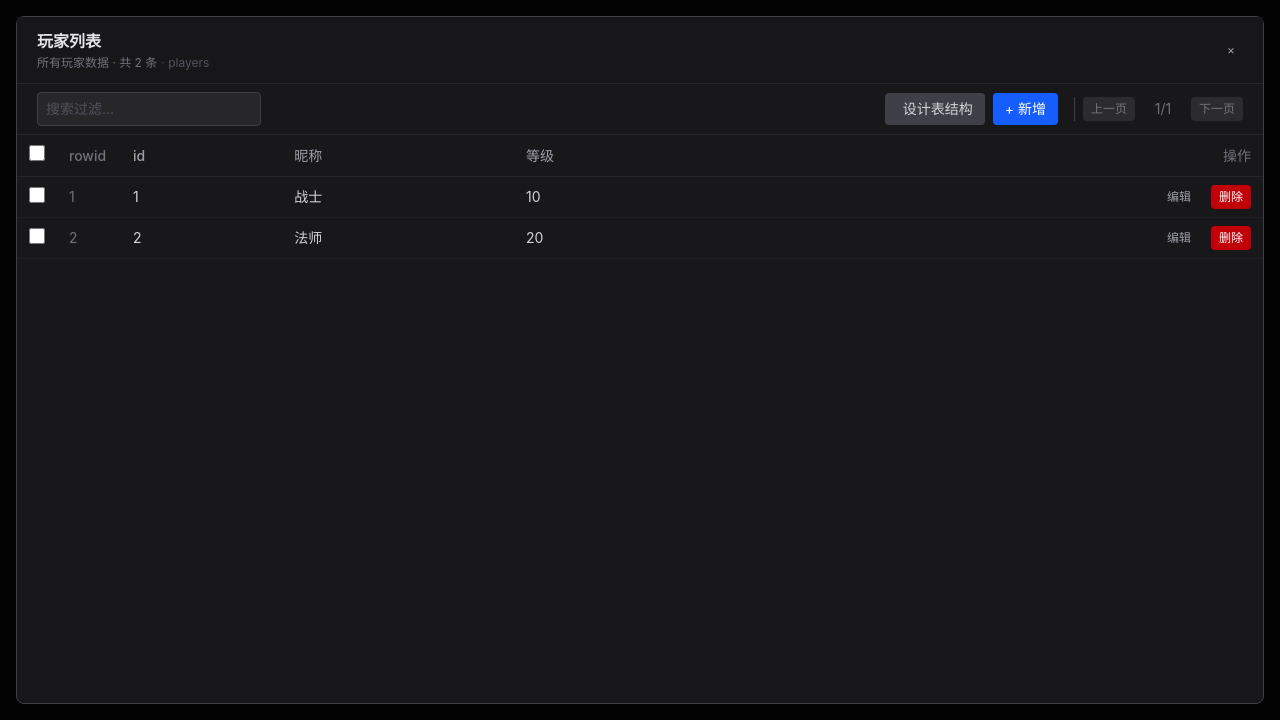
Test: TableEditorPopup - 批量删除 › 点击"删除选中"打开批量删除确认弹窗
Check: the text "战士" is shown, box [294,188,322,205]
Step 1. Click the checkbox named "选择 rowid 1 行" → (37, 194), box [29,186,45,202]
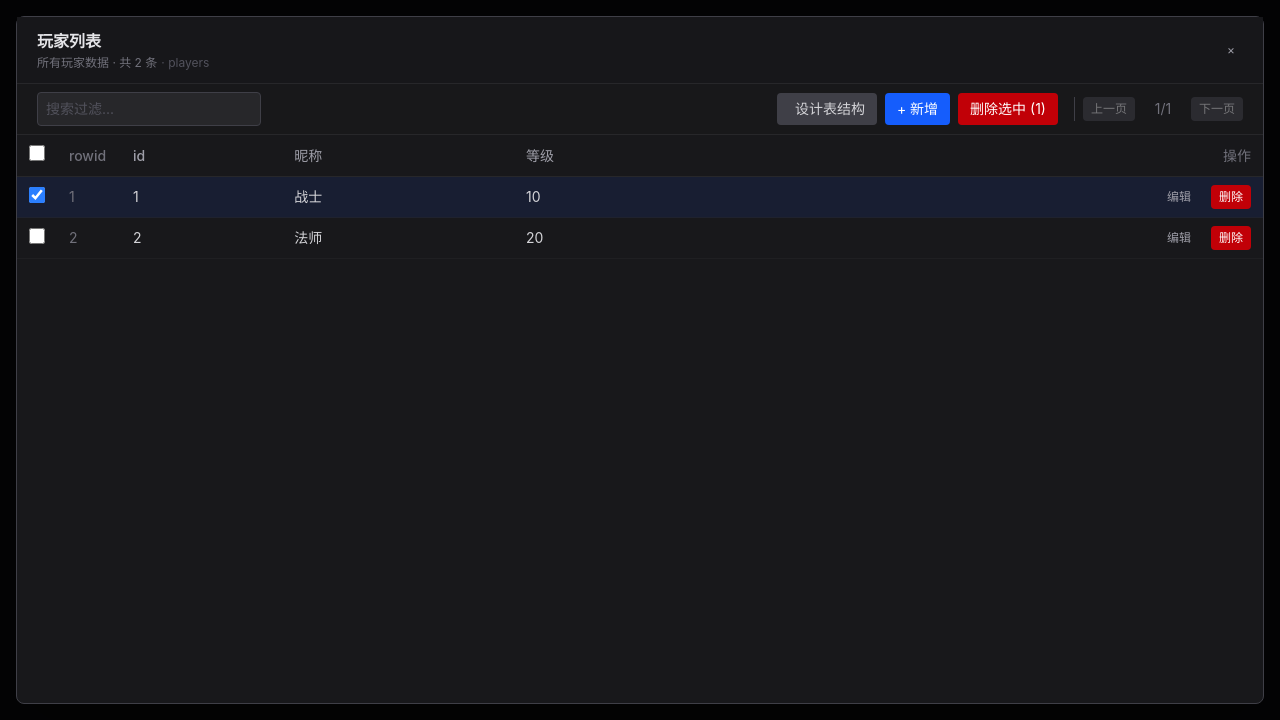
Step 2. Click the button "删除选中 (1)" → (1008, 109), box [958,93,1058,125]
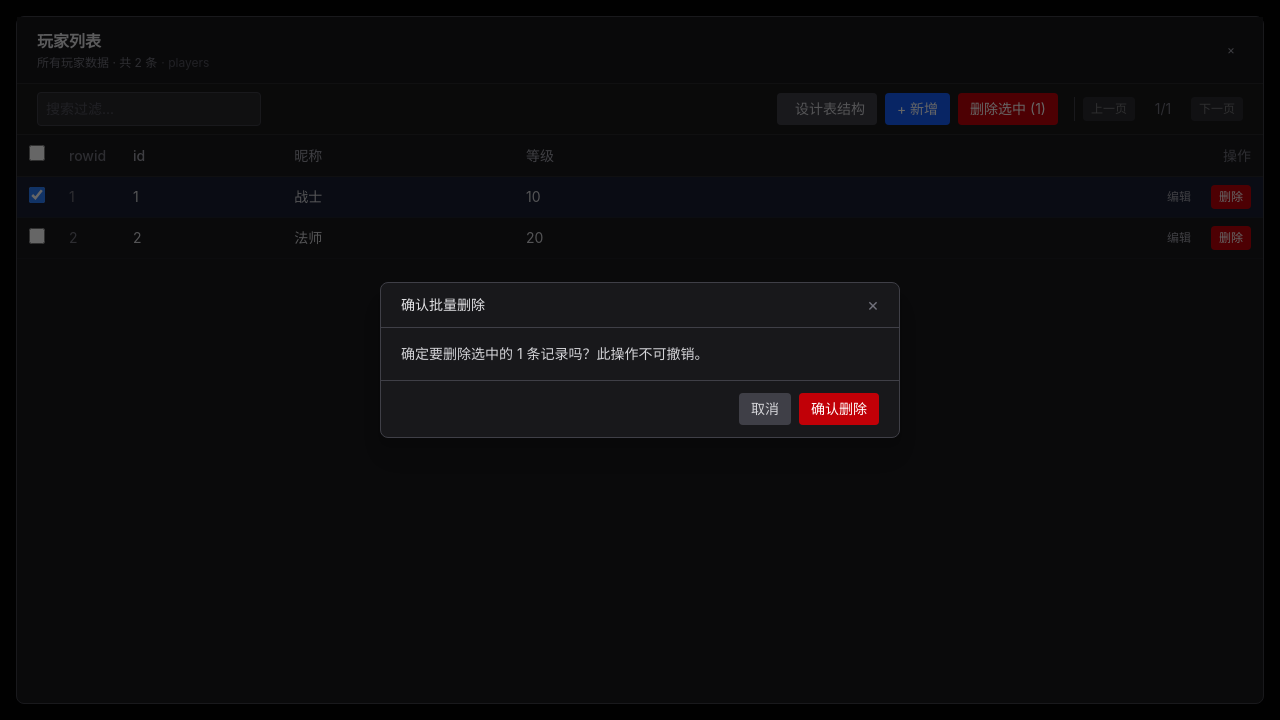
Check: the text "确认批量删除" is shown, box [401,295,485,315]
Check: the text "确定要删除选中的 1 条记录吗？此操作不可撤销。" is shown, box [401,345,709,362]
